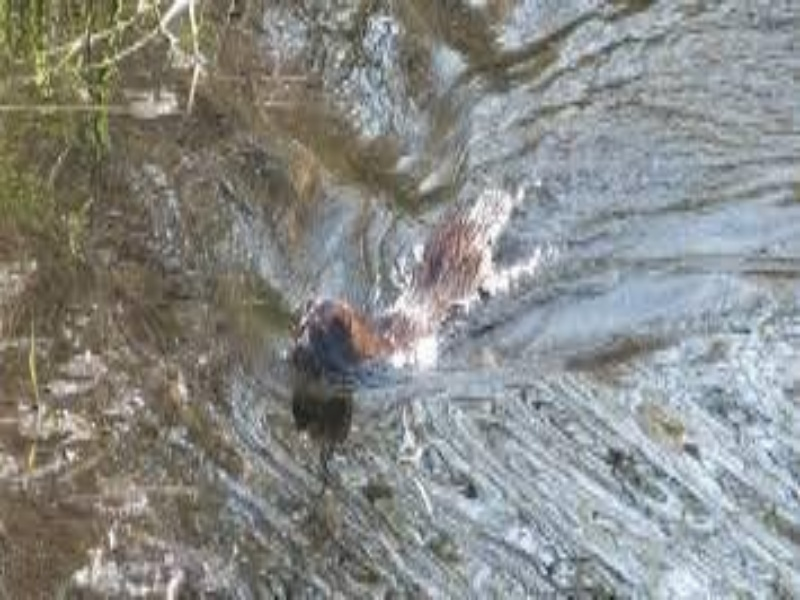minkish: (291, 175, 550, 378)
